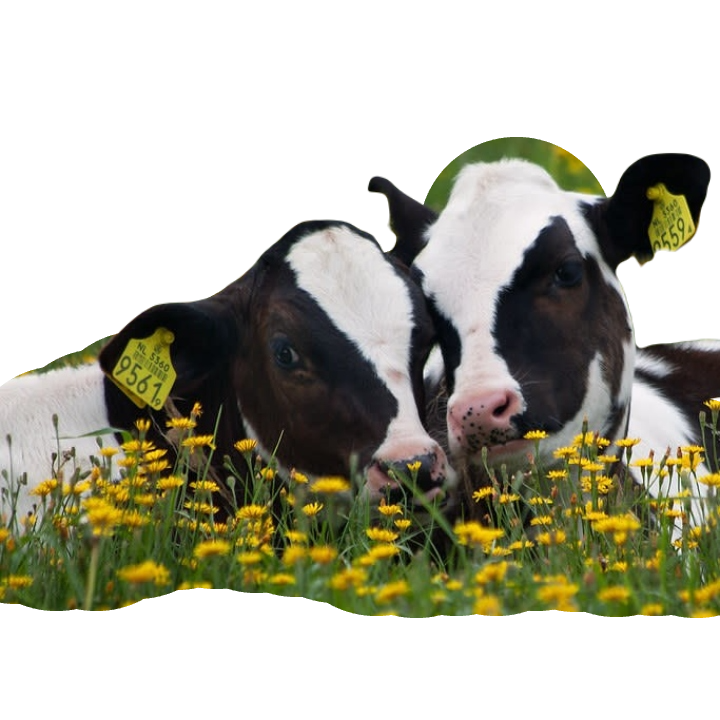Cow: (362, 148, 719, 496)
